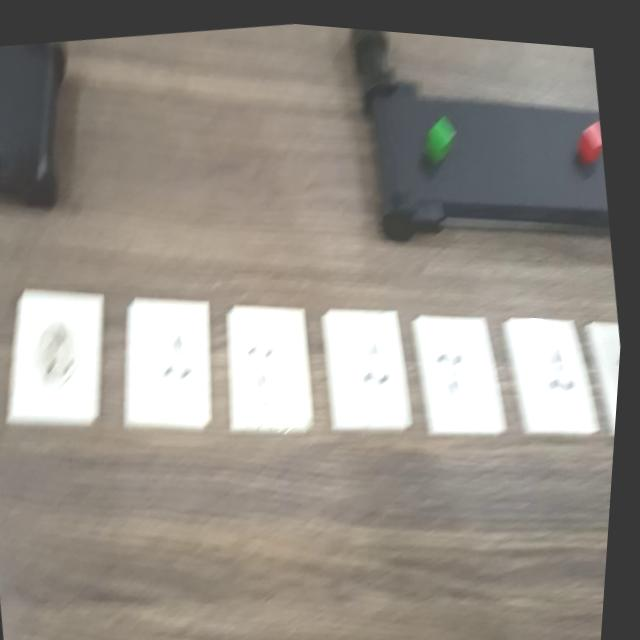cube: (420, 95, 466, 159), (573, 99, 609, 165)
